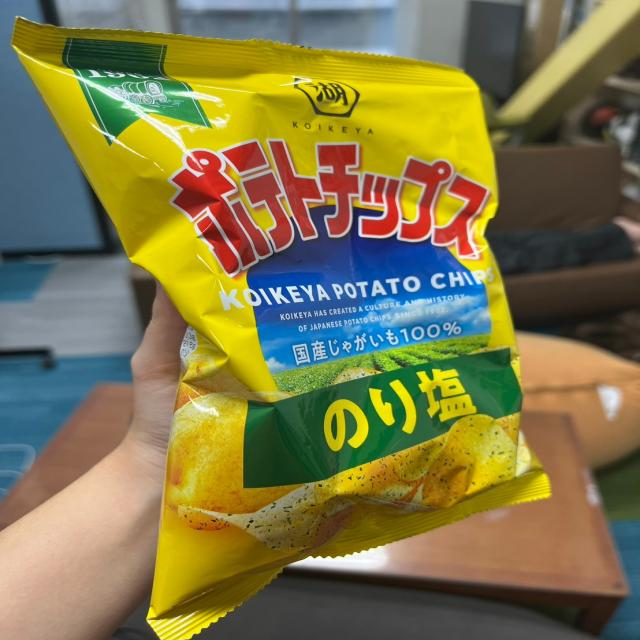chips-consome: (109, 21, 552, 612)
